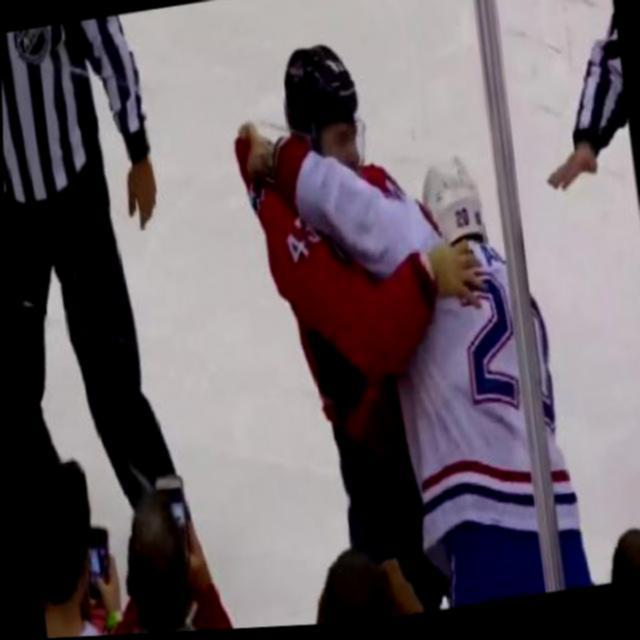fight: (220, 16, 542, 631)
